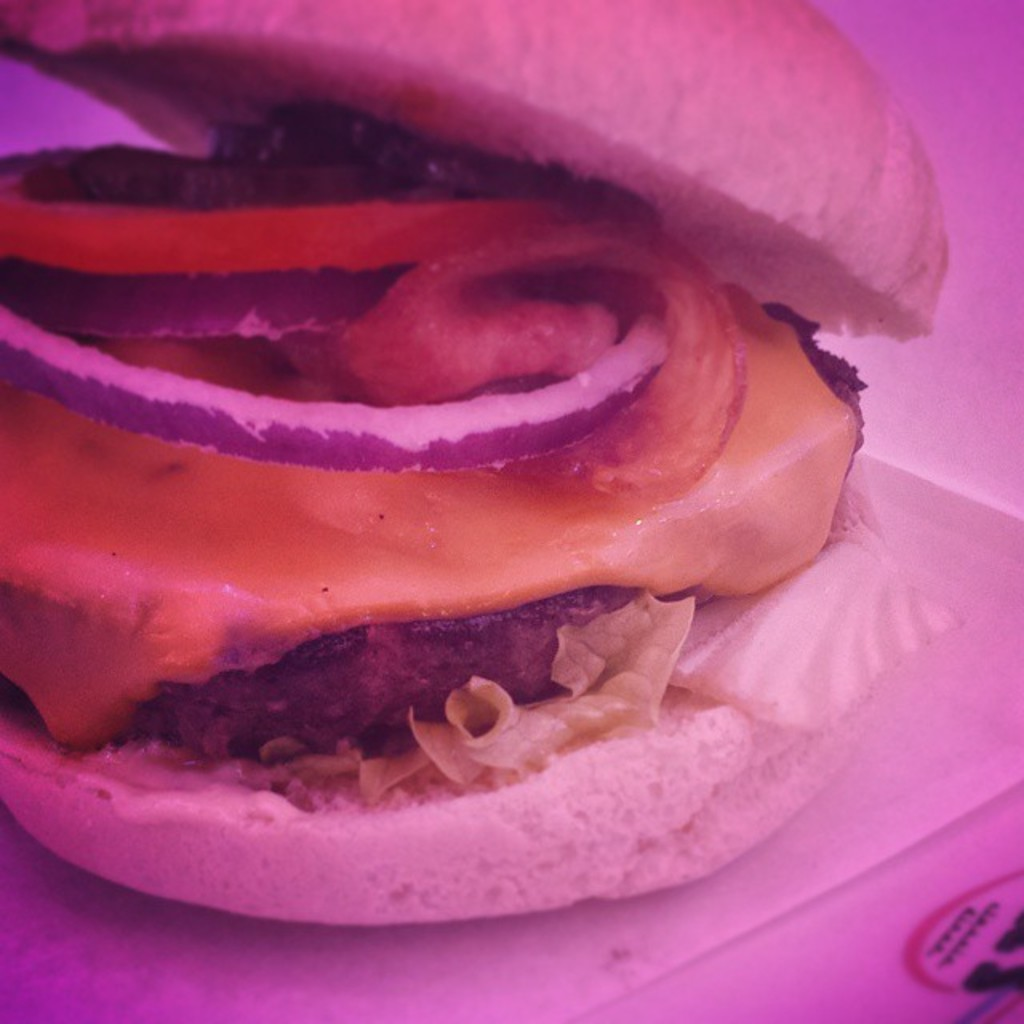sandwich: (0, 0, 962, 928)
